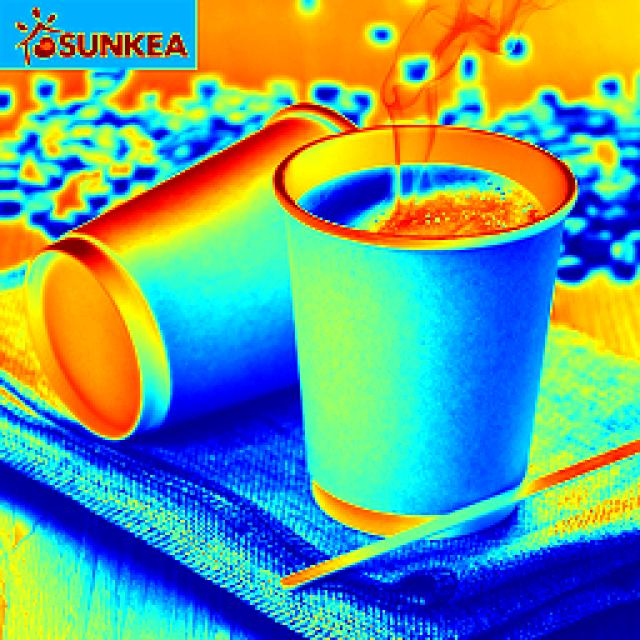Paper Cups: (242, 80, 574, 528)
